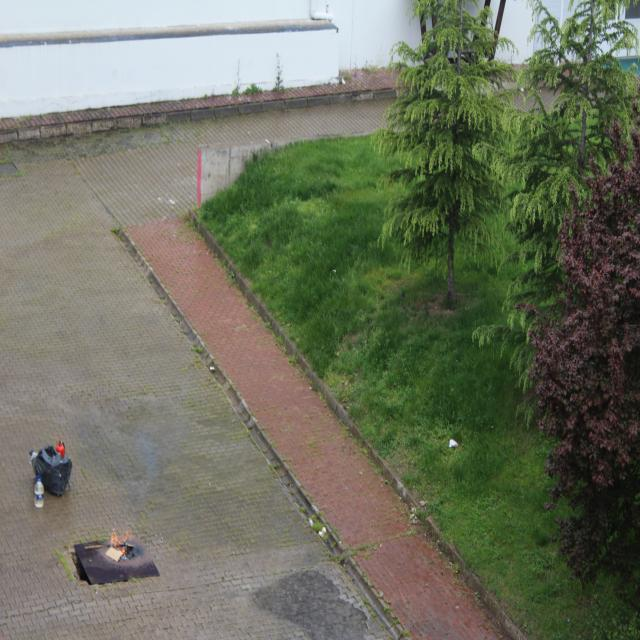fire: (104, 519, 128, 560)
